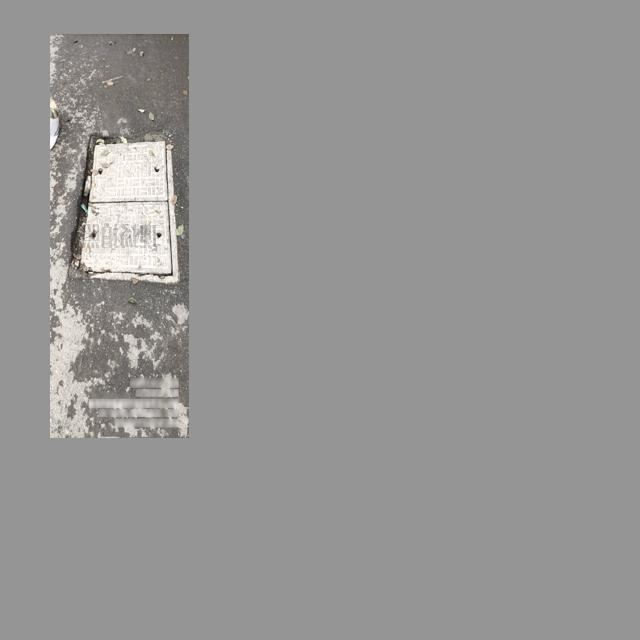circle: (68, 134, 178, 282)
